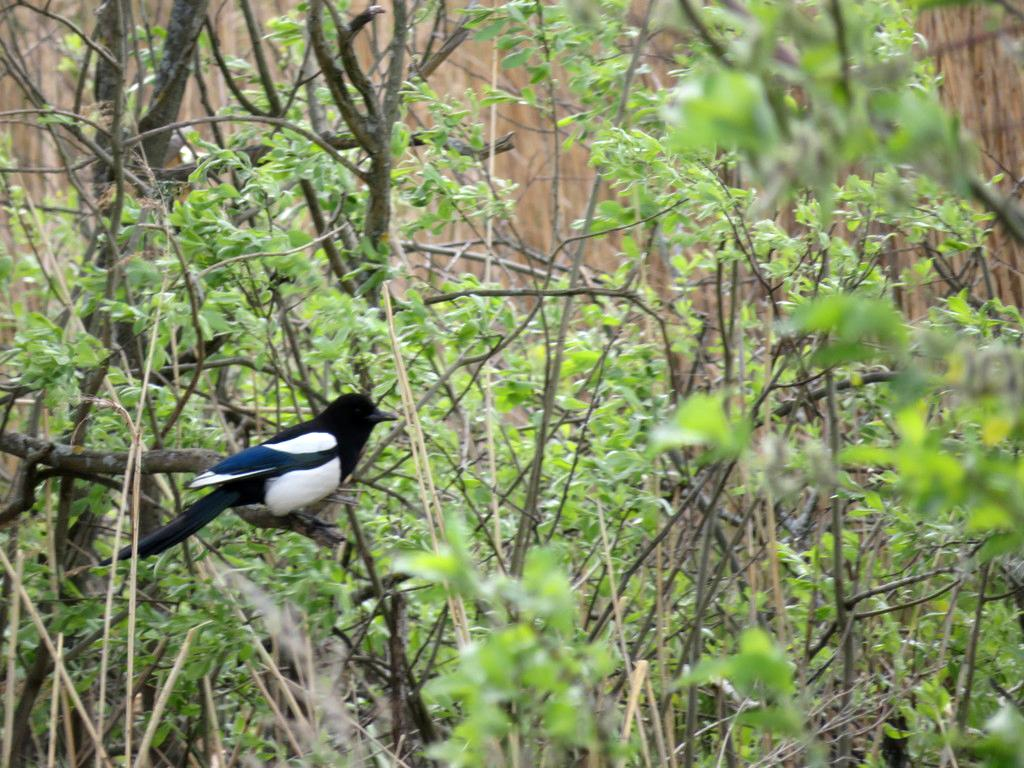PicaPica: (98, 392, 399, 568)
